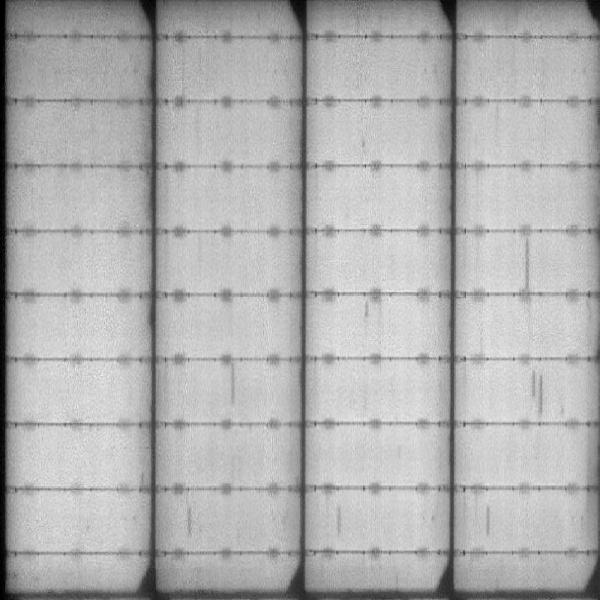scratch: (519, 236, 538, 300), (528, 364, 548, 418), (223, 360, 242, 408)
